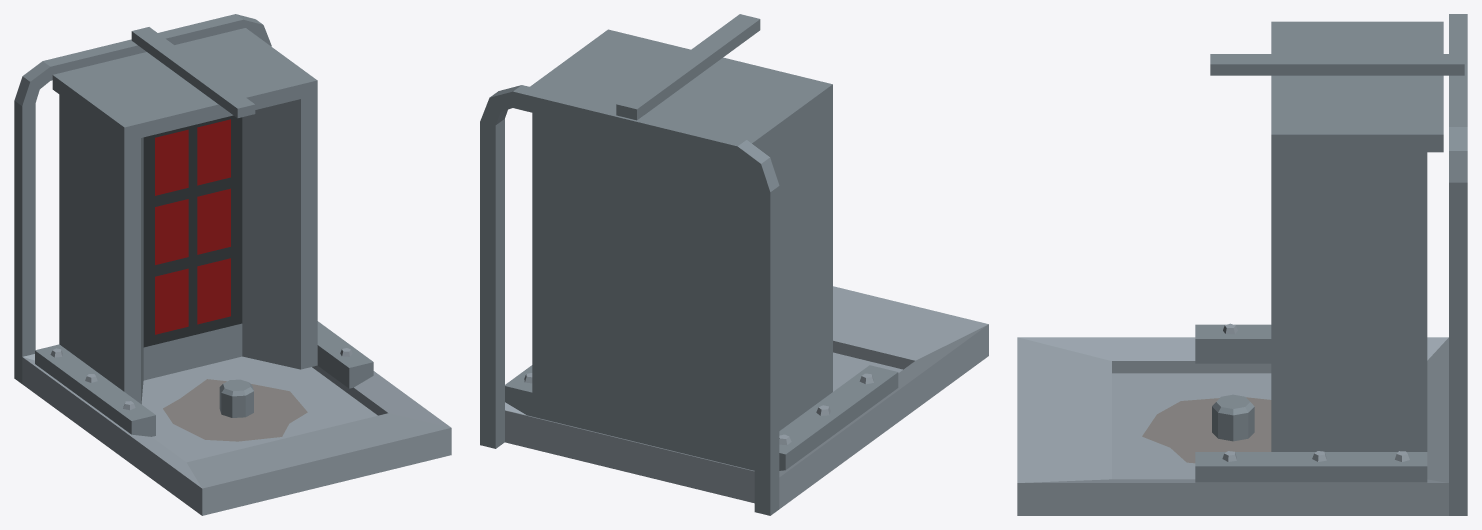
Rendered from SM_Prop_Kitchen_Kebab_Rotisserie_01.obj.
3 renders of one model, left to right at view 1: azimuth 30°, elevation 25°; view 2: azimuth 150°, elevation 25°; view 3: azimuth 270°, elevation 25°, orthographic. The views are drawn at different scales.
Parts seen in each view (by area): view 1: SM_Prop_Kitchen_Kebab_Rotisserie_01_0; view 2: SM_Prop_Kitchen_Kebab_Rotisserie_01_0; view 3: SM_Prop_Kitchen_Kebab_Rotisserie_01_0.
Boxes of the visible parts, box(x1,y1,x2,y2) form: SM_Prop_Kitchen_Kebab_Rotisserie_01_0: box(14, 14, 451, 515); SM_Prop_Kitchen_Kebab_Rotisserie_01_0: box(480, 14, 988, 515); SM_Prop_Kitchen_Kebab_Rotisserie_01_0: box(1017, 14, 1467, 515).
Size of the model in its own units: 0.6311 by 0.7742 by 0.8228.
Materials: 1 (1 with a texture image).
